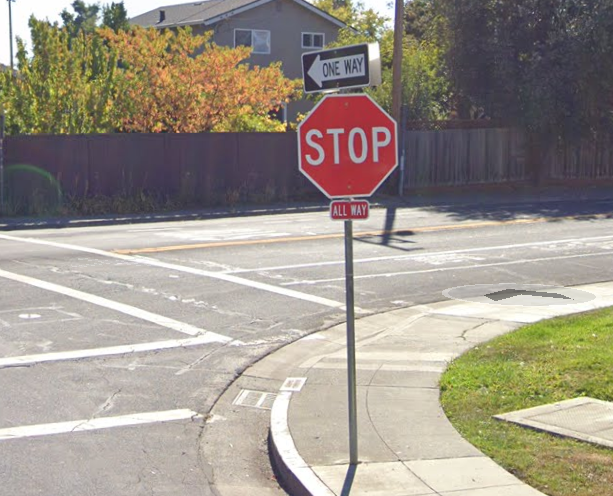stop_sign: (297, 95, 400, 198)
